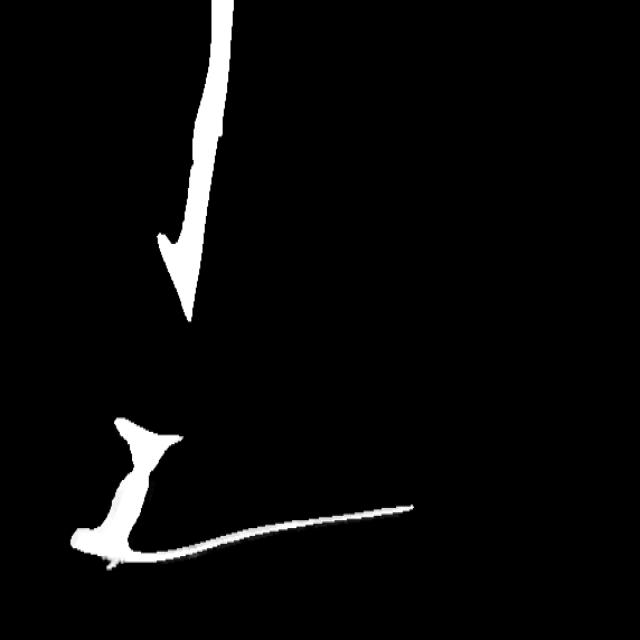sup_pli: (103, 549, 122, 576)
